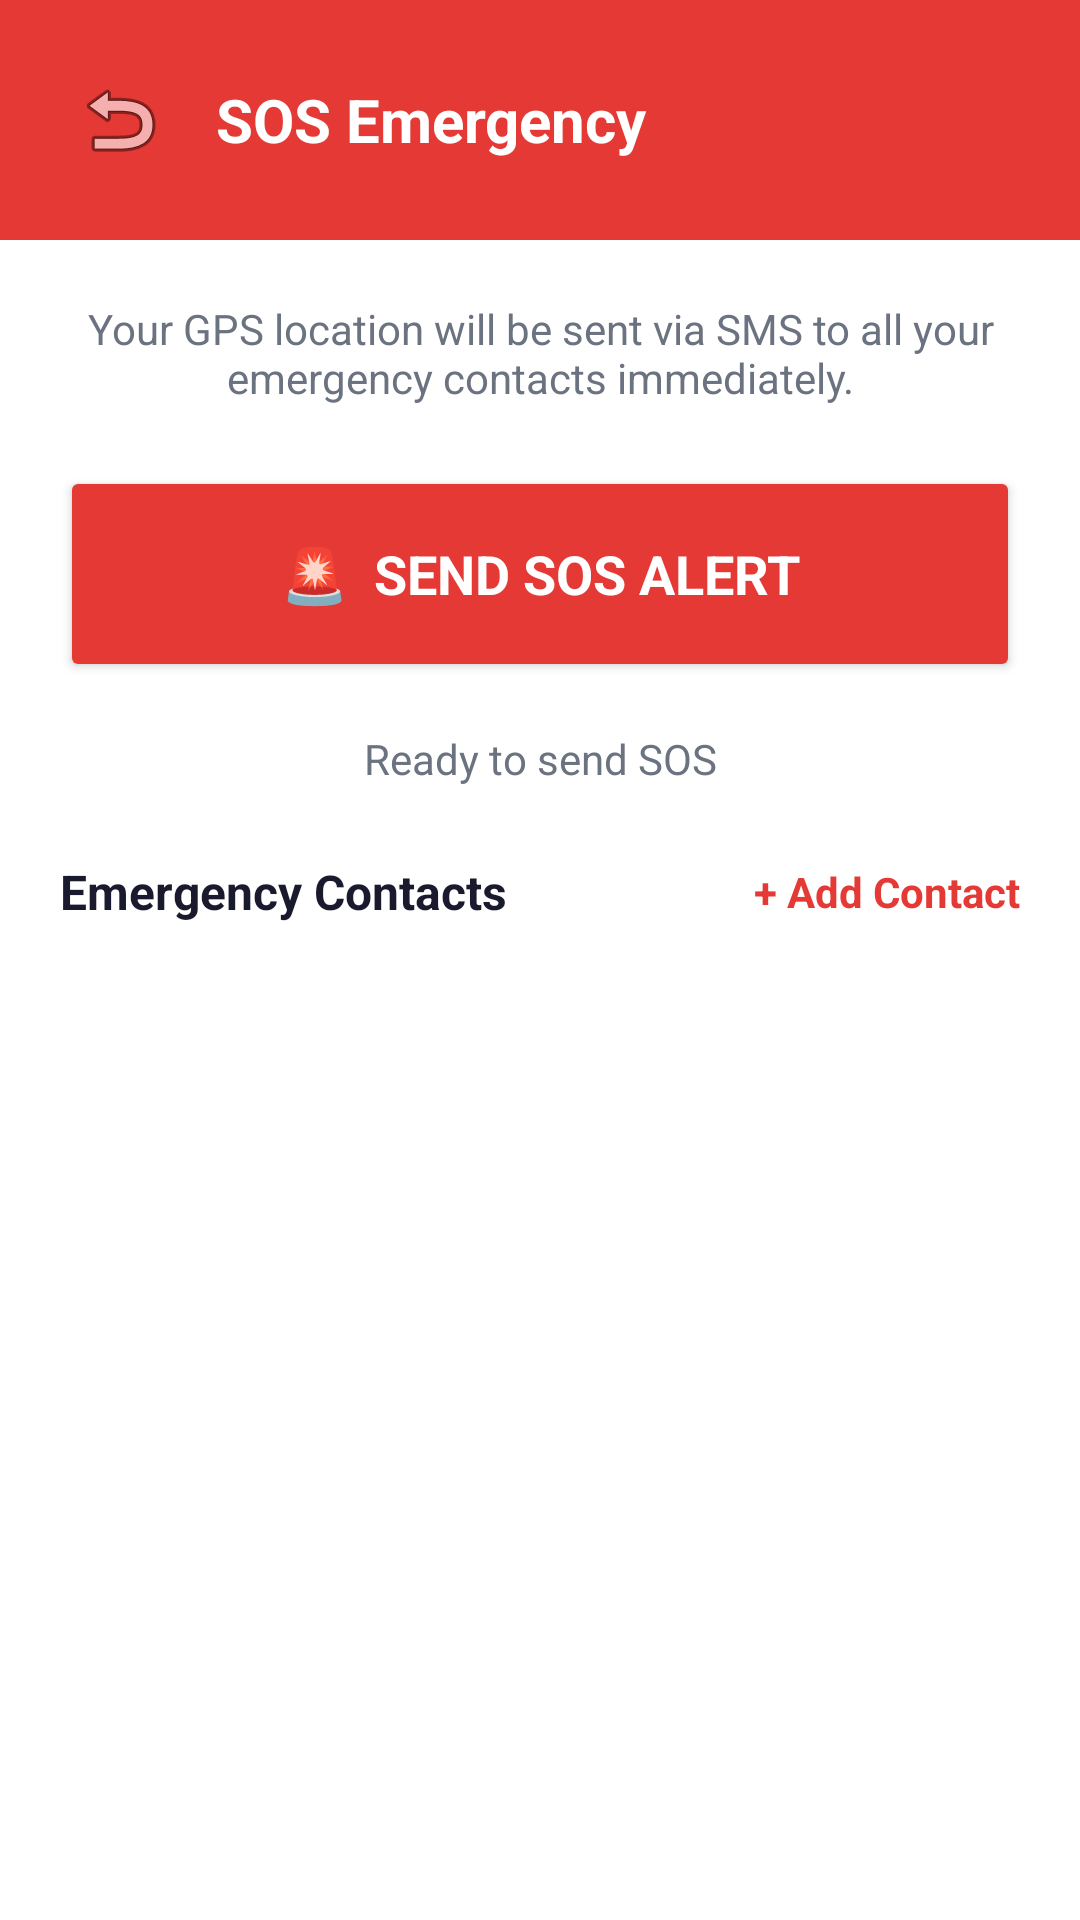

Where to tap for icons on this 1080px x 1920px app screen, as [x,y]:
Back: [121,120]
